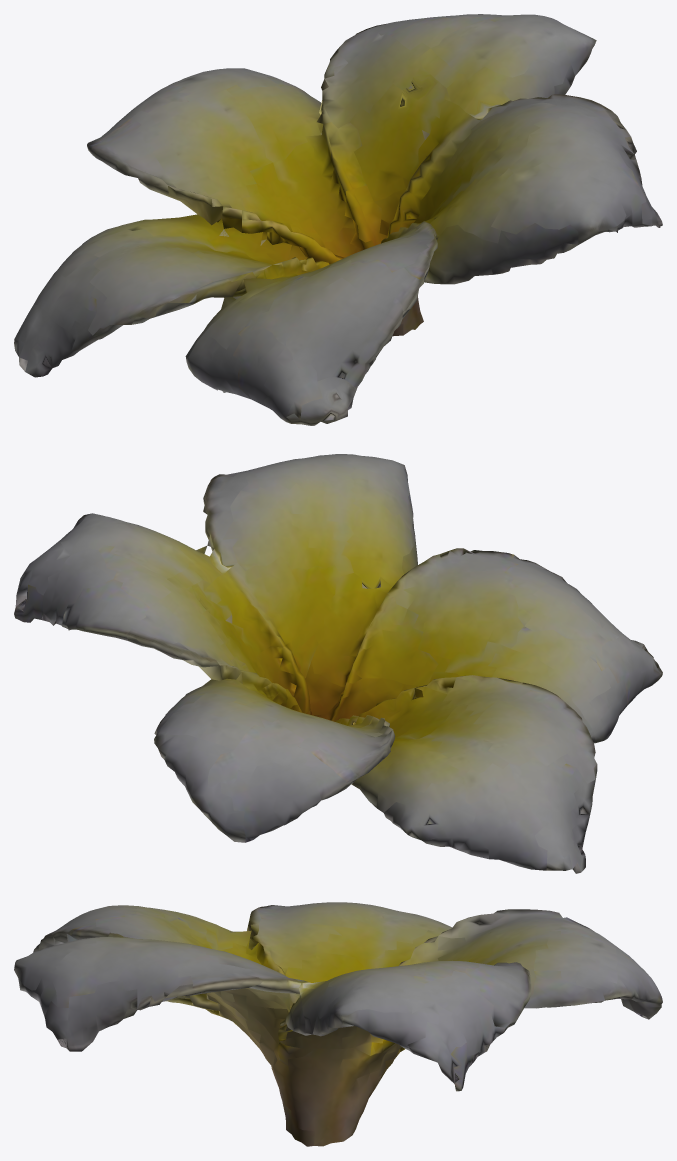
3 renders of one model, top to bottom at view 1: azimuth 30°, elevation 25°; view 2: azimuth 150°, elevation 25°; view 3: azimuth 270°, elevation 25°, orthographic. The views are drawn at different scales.
Parts seen in each view (by area): view 1: f23b8272; view 2: f23b8272; view 3: f23b8272.
Boxes of the visible parts, x1,y1,x2,y2 form: f23b8272: [14, 14, 662, 425]; f23b8272: [14, 454, 662, 873]; f23b8272: [14, 902, 662, 1146].
Bounding box in the file's own units: 0.0655 × 0.0262 × 0.0652.
1 material, 1 textured.
